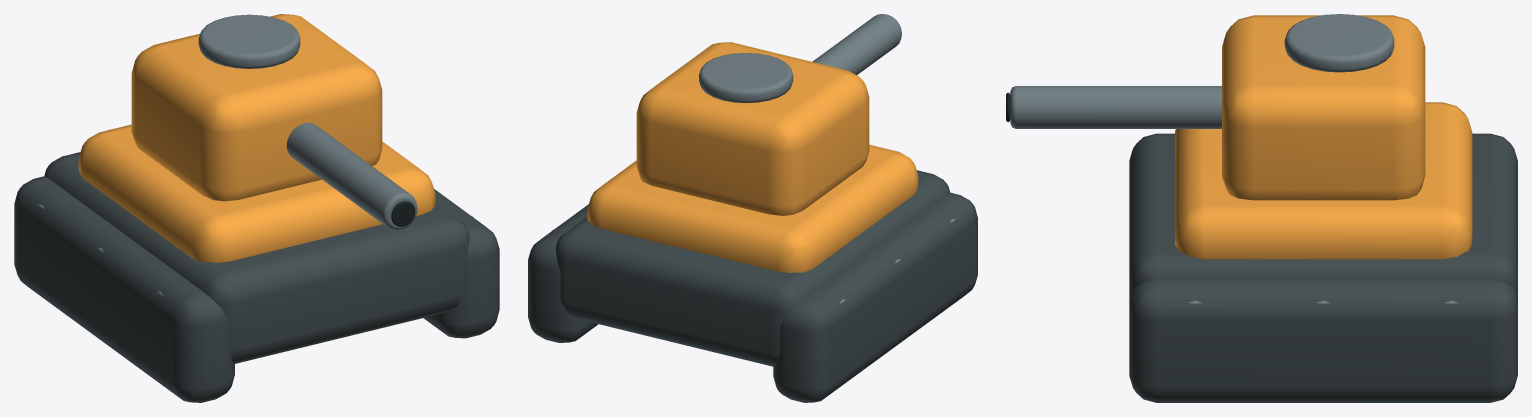
The model's file is tank.glb.
3 renders of one model, left to right at view 1: azimuth 30°, elevation 25°; view 2: azimuth 150°, elevation 25°; view 3: azimuth 270°, elevation 25°, orthographic. The views are drawn at different scales.
Visible parts, largest first — view 1: Tank turret armor, Tank chassis, Track belt, Tank upper hull, Recoil barrel, Track belt.001, Tank hatch, Dark muzzle; view 2: Tank turret armor, Tank chassis, Track belt, Tank upper hull, Track belt.001, Tank hatch, Recoil barrel; view 3: Track belt.001, Tank turret armor, Tank upper hull, Tank chassis, Recoil barrel, Tank hatch.
Part boxes in pixels (x1,y1,x2,y2): Tank turret armor: [131, 14, 382, 201]; Tank chassis: [44, 152, 469, 363]; Track belt: [14, 176, 234, 402]; Tank upper hull: [78, 124, 435, 262]; Recoil barrel: [286, 122, 417, 229]; Track belt.001: [423, 189, 499, 338]; Tank hatch: [198, 14, 300, 68]; Dark muzzle: [391, 201, 415, 226]; Tank turret armor: [636, 42, 869, 215]; Tank chassis: [555, 170, 950, 366]; Track belt: [773, 192, 977, 402]; Tank upper hull: [587, 144, 918, 272]; Track belt.001: [528, 204, 598, 342]; Tank hatch: [699, 53, 793, 103]; Recoil barrel: [812, 14, 901, 75]; Track belt.001: [1129, 280, 1517, 402]; Tank turret armor: [1222, 15, 1425, 200]; Tank upper hull: [1175, 102, 1472, 259]; Tank chassis: [1129, 133, 1517, 300]; Recoil barrel: [1010, 86, 1221, 128]; Tank hatch: [1284, 14, 1394, 72].
Size of the model in its own units: 1.76 by 1.41 by 2.24.
